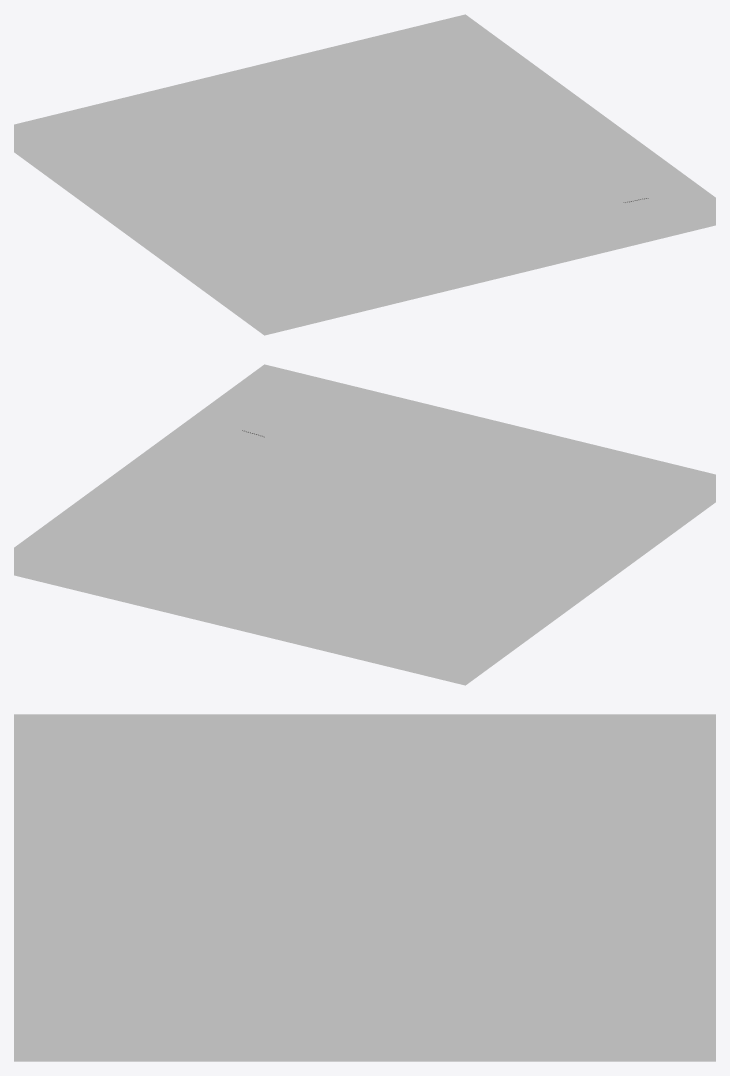
Rendered from 2022_august_pro_ccw.dae.
The picture shows the model from 3 angles, top to bottom: view 1: azimuth 30°, elevation 25°; view 2: azimuth 150°, elevation 25°; view 3: azimuth 270°, elevation 25°; orthographic projection. The views are drawn at different scales.
Parts seen in each view (by area): view 1: field, wall, road, ol, il, cl; view 2: field, wall, road, ol, il, cl; view 3: field, wall, road, il, ol, cl.
Boxes of the visible parts, box(x1,y1,x2,y2) form: field: box(43, 42, 686, 307); wall: box(14, 14, 715, 335); road: box(150, 69, 658, 285); ol: box(178, 81, 630, 272); il: box(148, 68, 660, 285); cl: box(164, 75, 645, 278); field: box(43, 392, 686, 657); wall: box(14, 364, 715, 685); road: box(78, 416, 619, 606); ol: box(106, 428, 592, 593); il: box(76, 415, 622, 606); cl: box(92, 422, 606, 599); field: box(14, 753, 715, 1022); wall: box(14, 714, 715, 1061); road: box(50, 768, 679, 1022); il: box(46, 766, 683, 1022); ol: box(89, 784, 640, 1022); cl: box(69, 776, 660, 1022).
Bounding box in the file's own units: 17.04 × 16.37 × 1.
